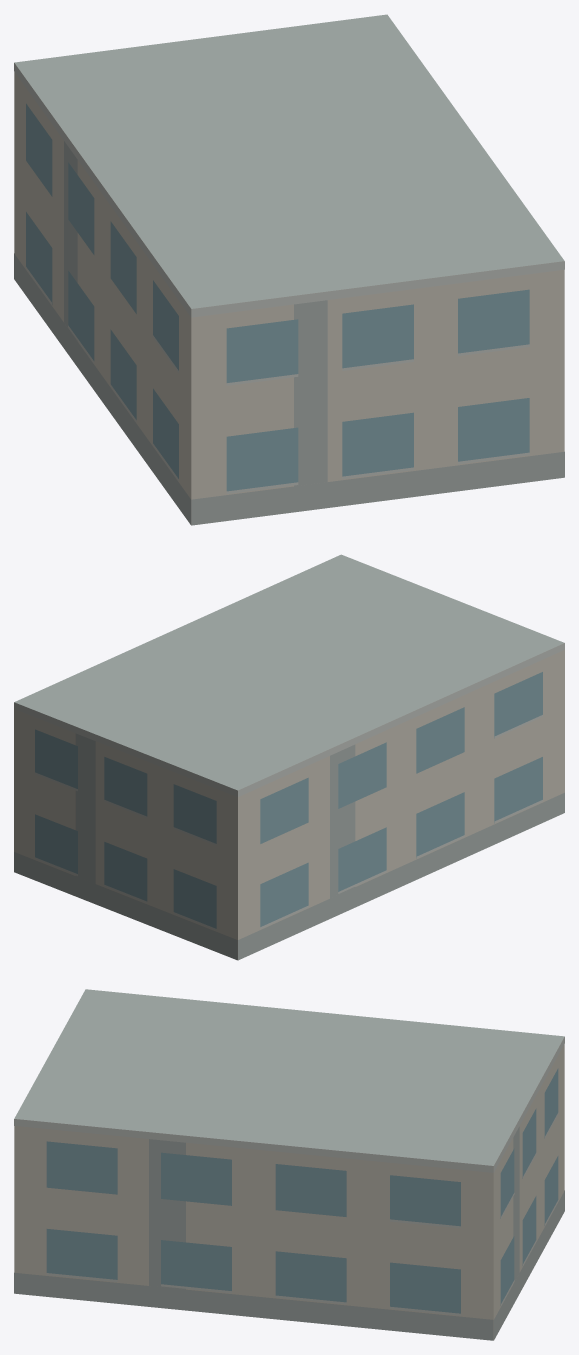
Rendered from residential-047d41ce-66a1-46c3-8775-98b83d4c2f20.glb.
The picture shows the model from 3 angles, top to bottom: view 1: azimuth 30°, elevation 25°; view 2: azimuth 150°, elevation 25°; view 3: azimuth 270°, elevation 25°; orthographic projection. The views are drawn at different scales.
Parts seen in each view (by area): view 1: residential-047d41ce-66a1-46c3-8775-98b83d4c2f20.tmp; view 2: residential-047d41ce-66a1-46c3-8775-98b83d4c2f20.tmp; view 3: residential-047d41ce-66a1-46c3-8775-98b83d4c2f20.tmp.
Boxes of the visible parts, <box> form: residential-047d41ce-66a1-46c3-8775-98b83d4c2f20.tmp: <box>14,14,564,525</box>; residential-047d41ce-66a1-46c3-8775-98b83d4c2f20.tmp: <box>14,554,564,960</box>; residential-047d41ce-66a1-46c3-8775-98b83d4c2f20.tmp: <box>14,989,564,1340</box>.
Size of the model in its own units: 13.25 by 6.1 by 17.43.
